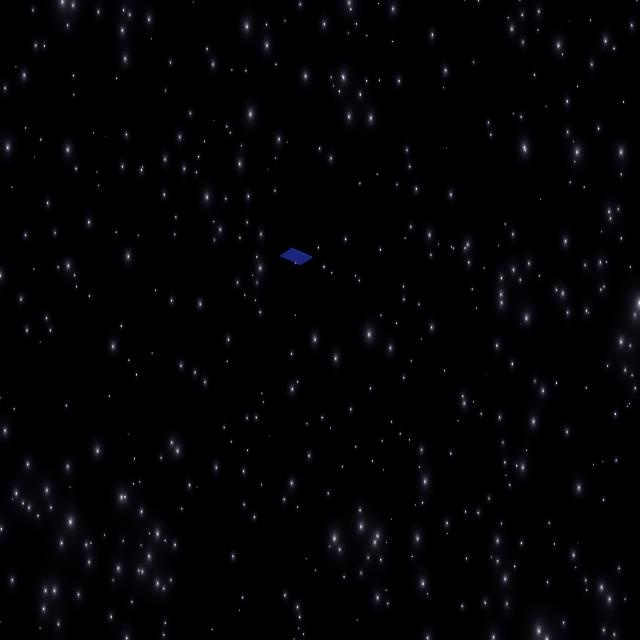large_debris: (280, 242, 315, 279)
